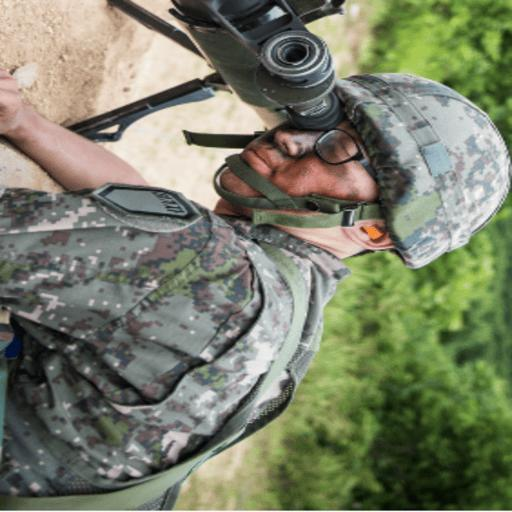korea army: (0, 60, 506, 508)
